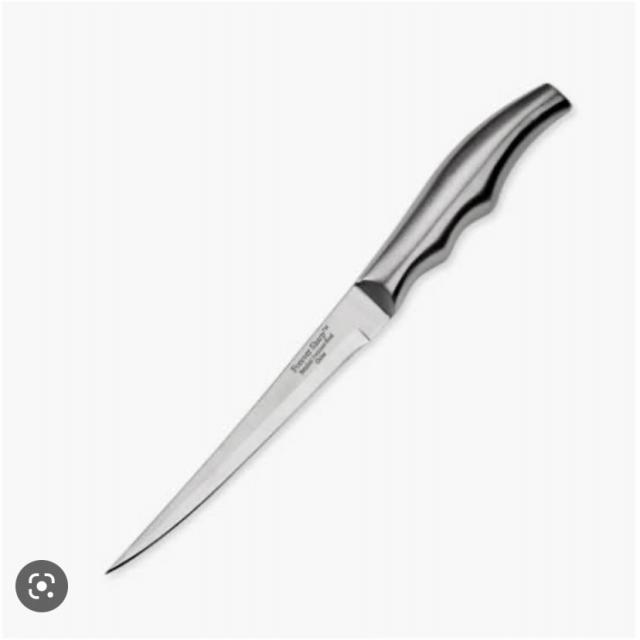Knife: (102, 77, 580, 577)
